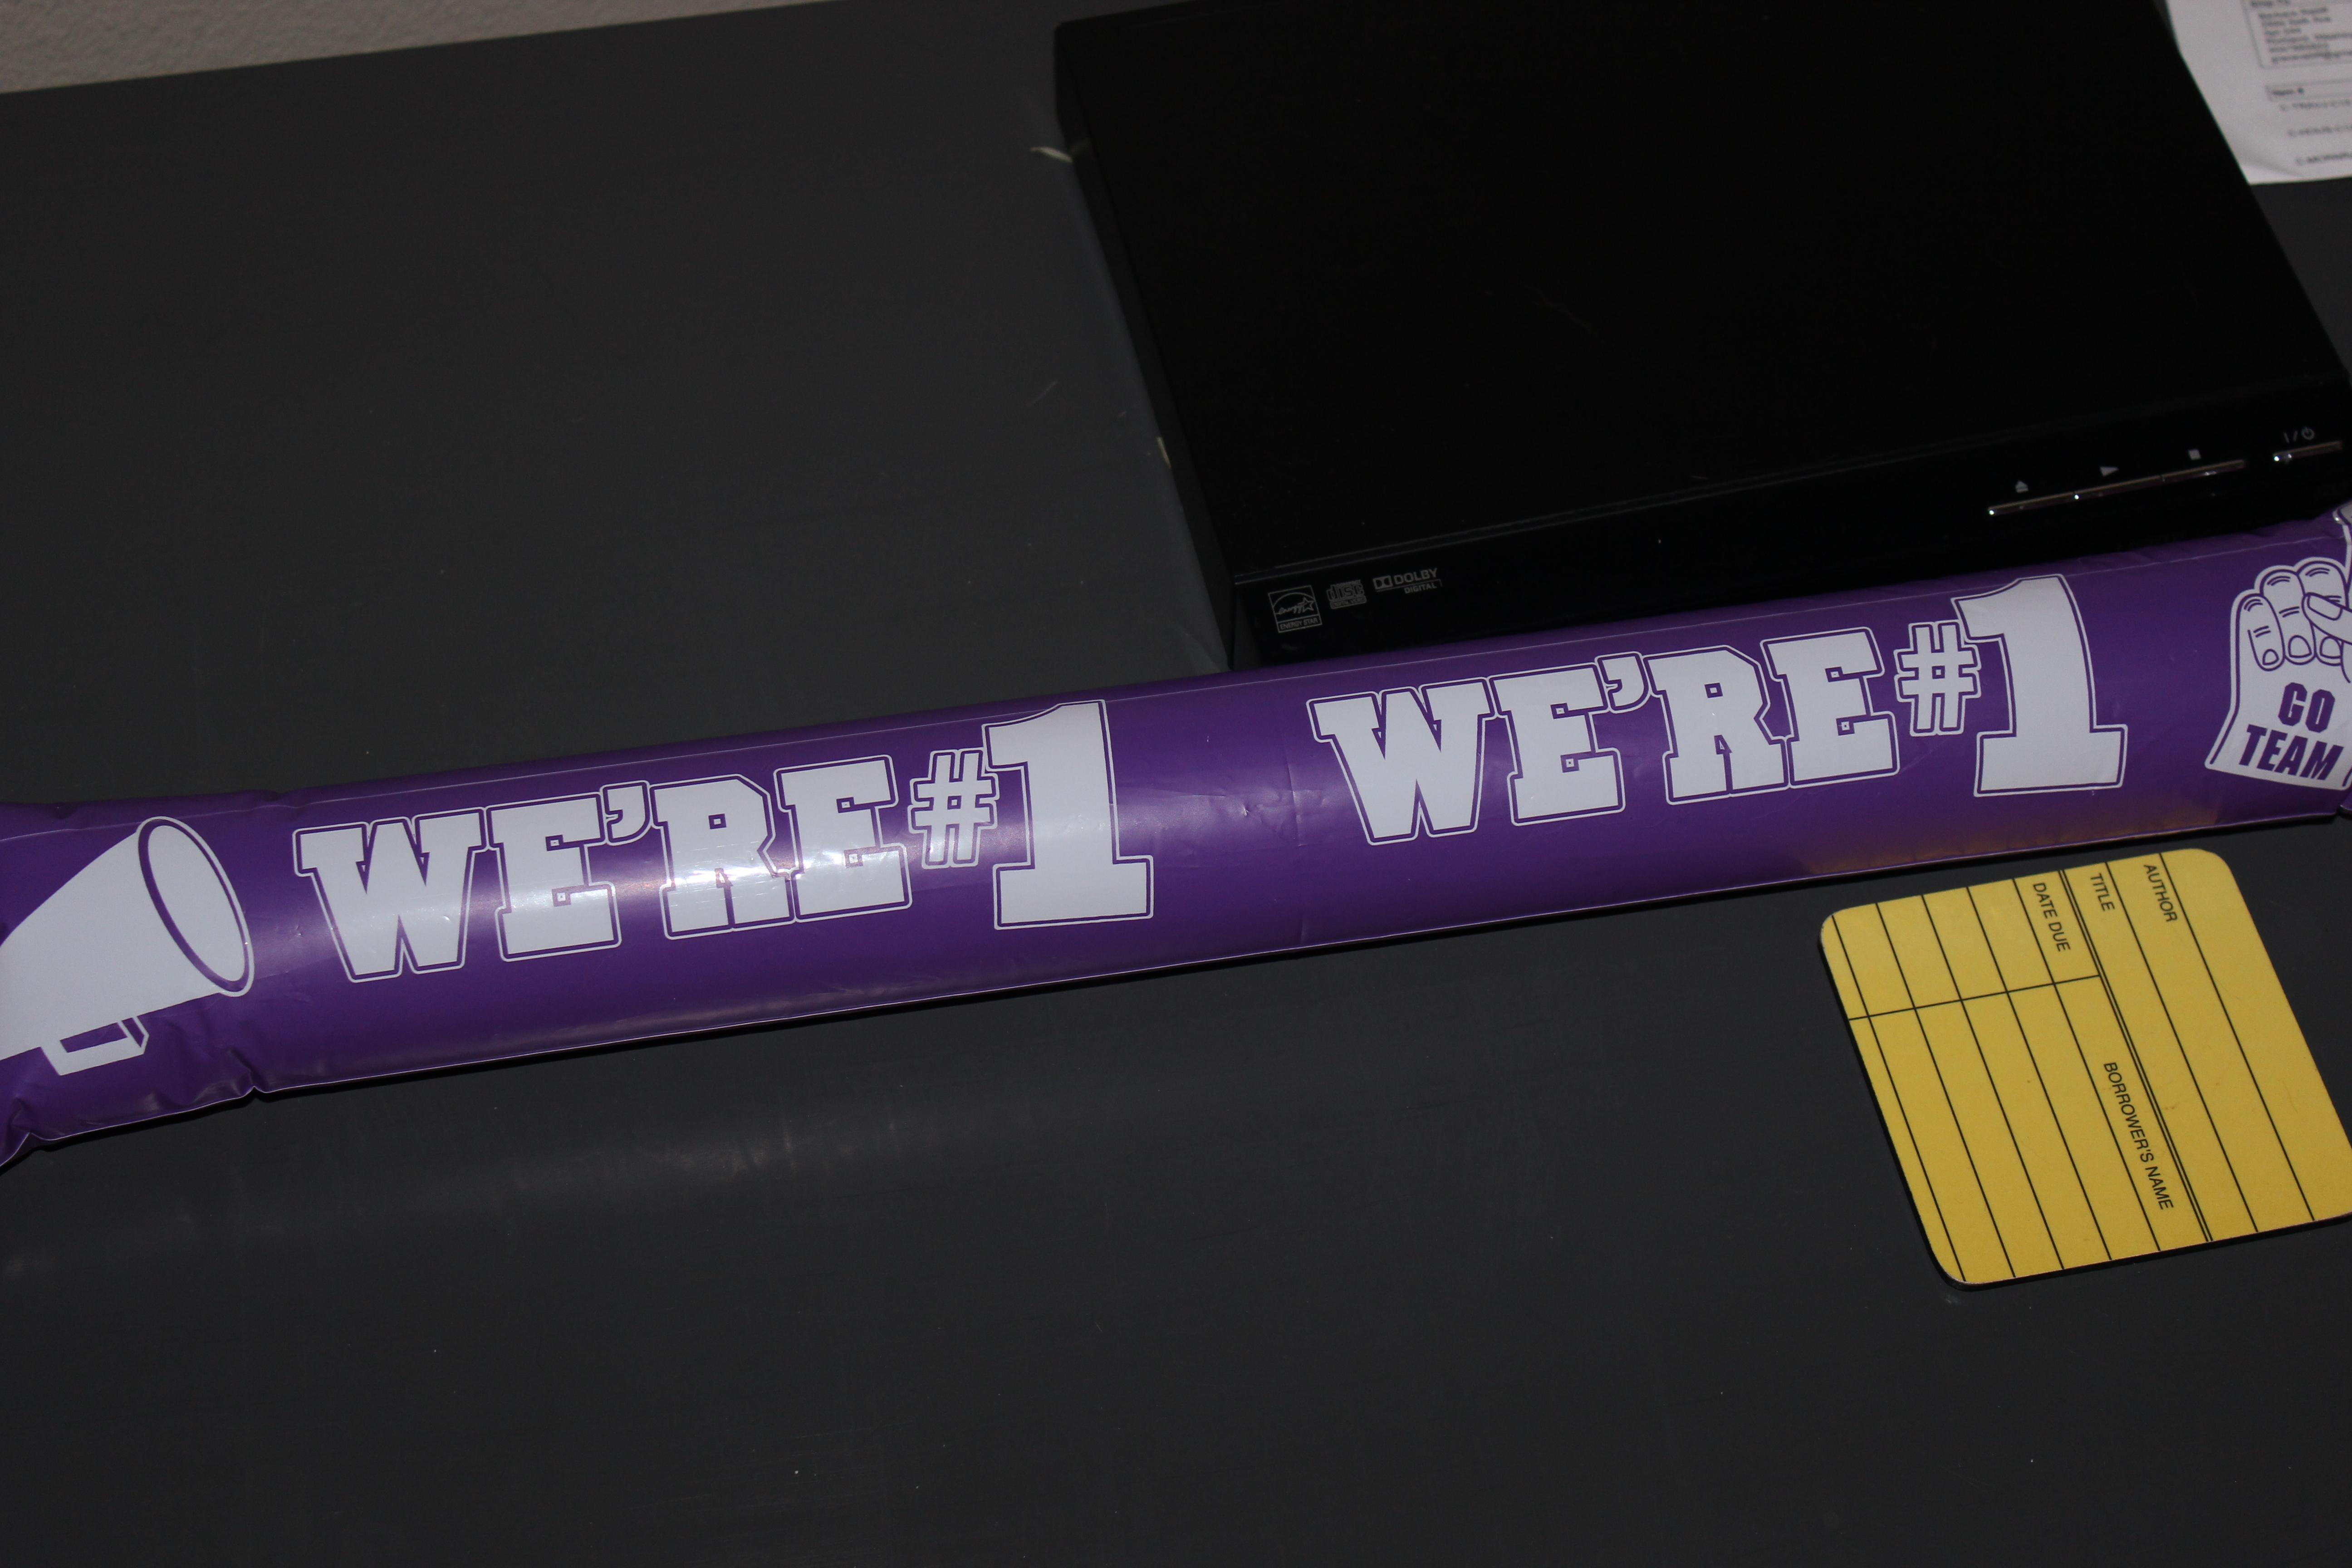noisemaker: (0, 436, 2349, 1207)
